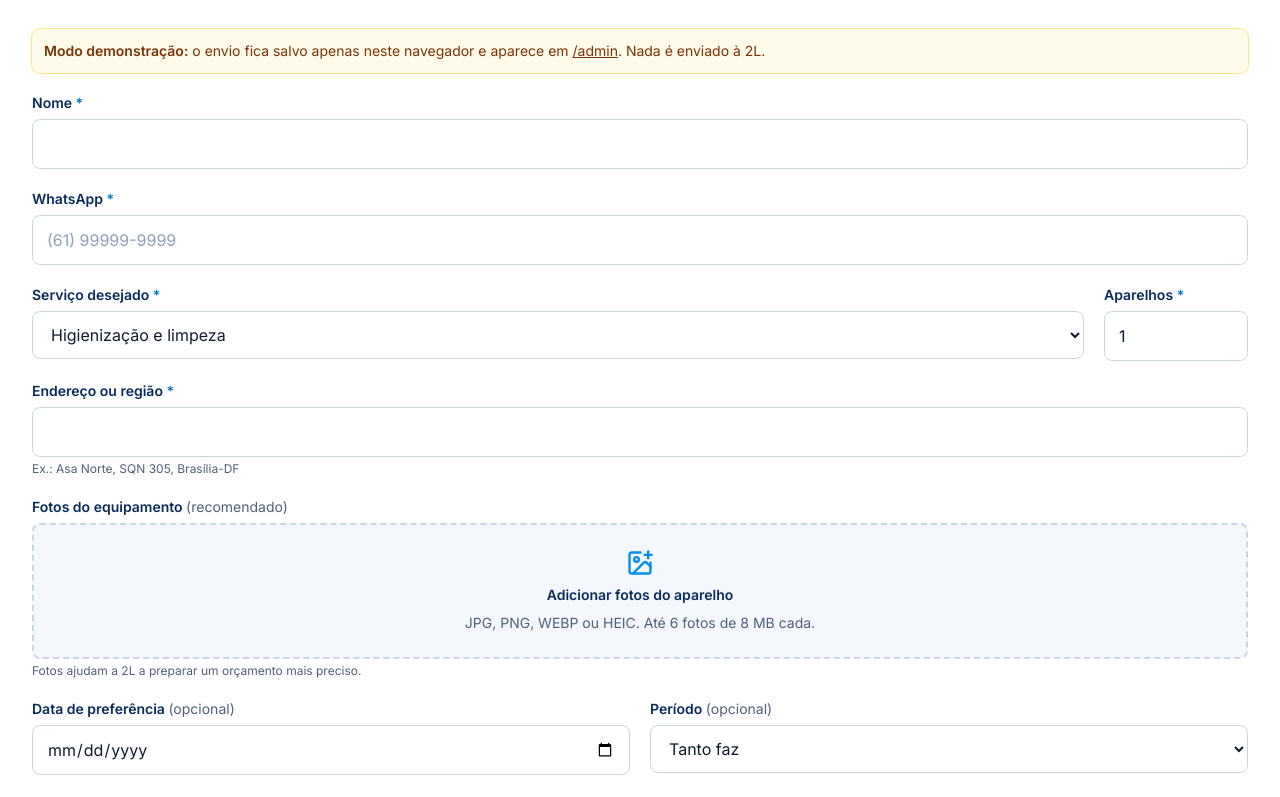
Test: QuoteForm › exibe erro do servidor e permite nova tentativa
Type "Maria Silva" into the field labelled "Nome *" at [640, 144], box [32,119,1248,169]
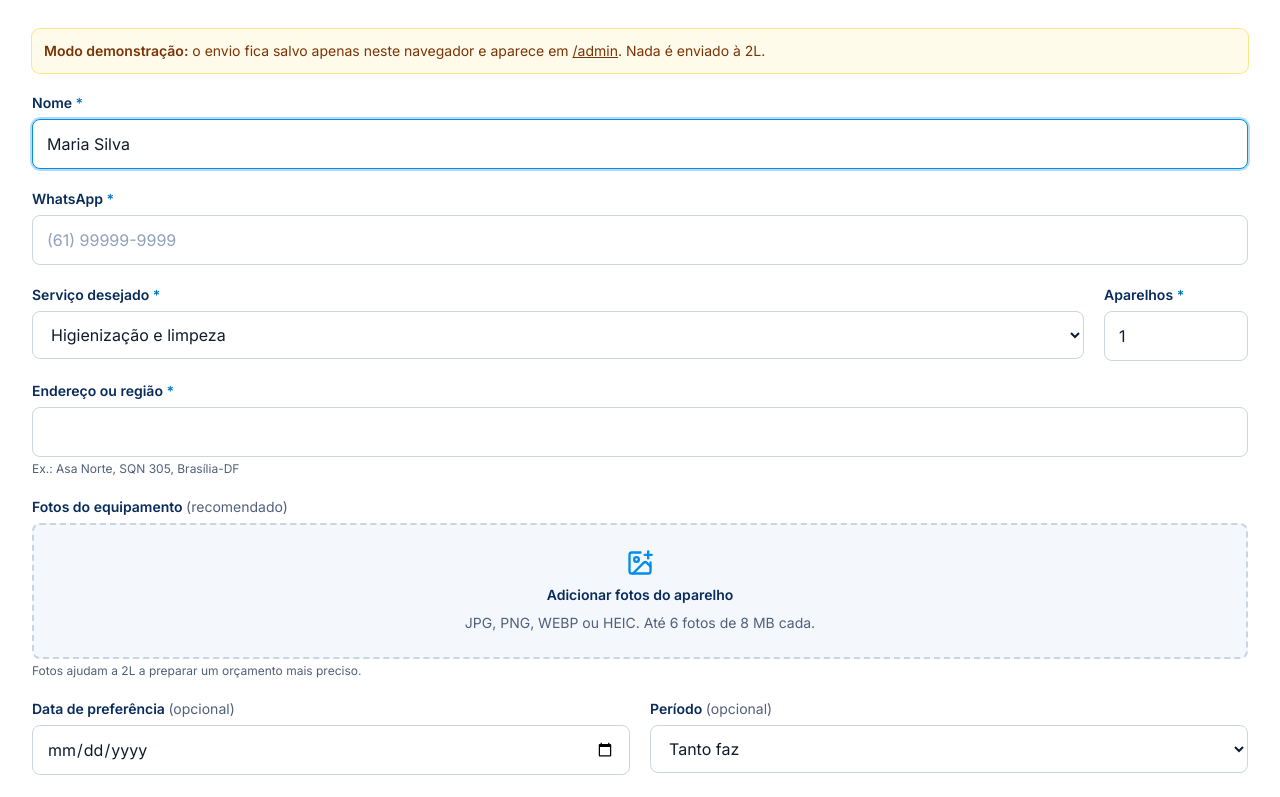
Type "61994415050" into the field labelled "WhatsApp *" at [640, 240], box [32,215,1248,265]
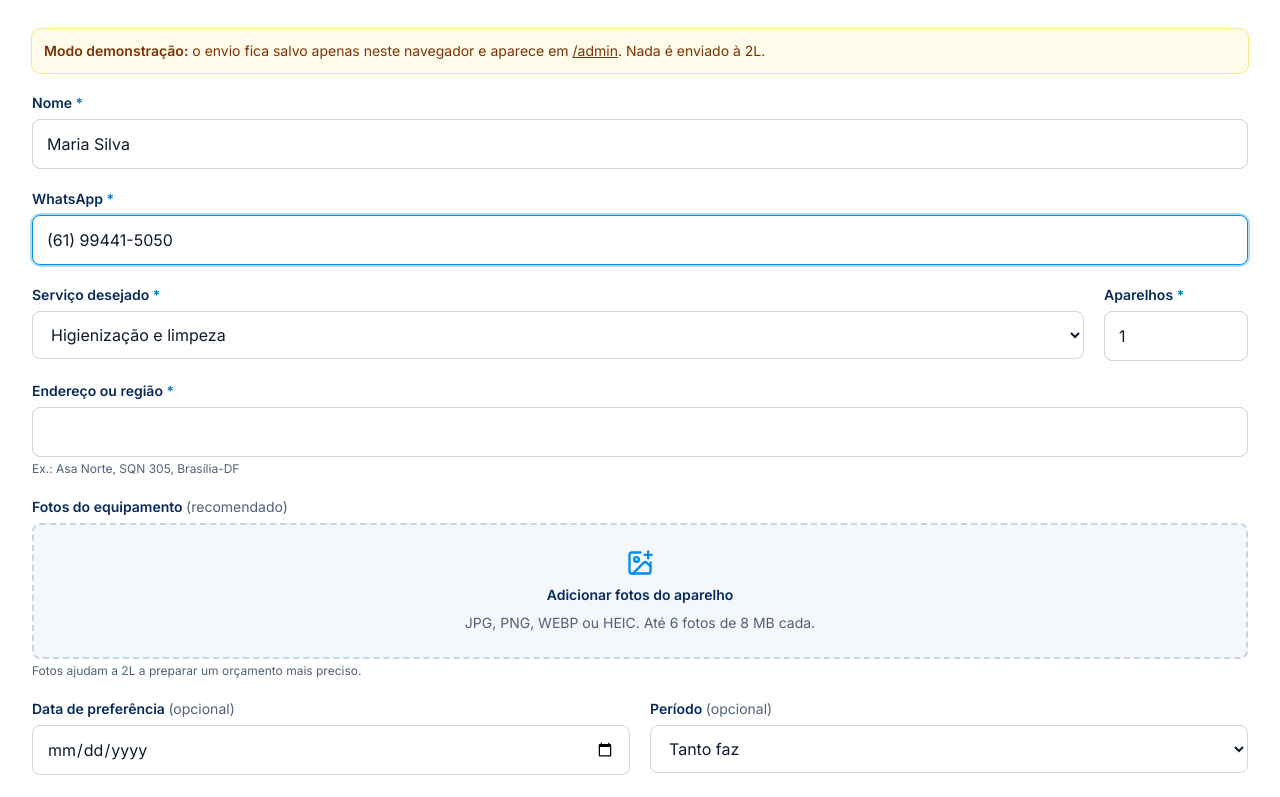
Type "Asa Norte" into the field labelled "Endereço ou região *" at [640, 432], box [32,407,1248,457]
(page scrolled)
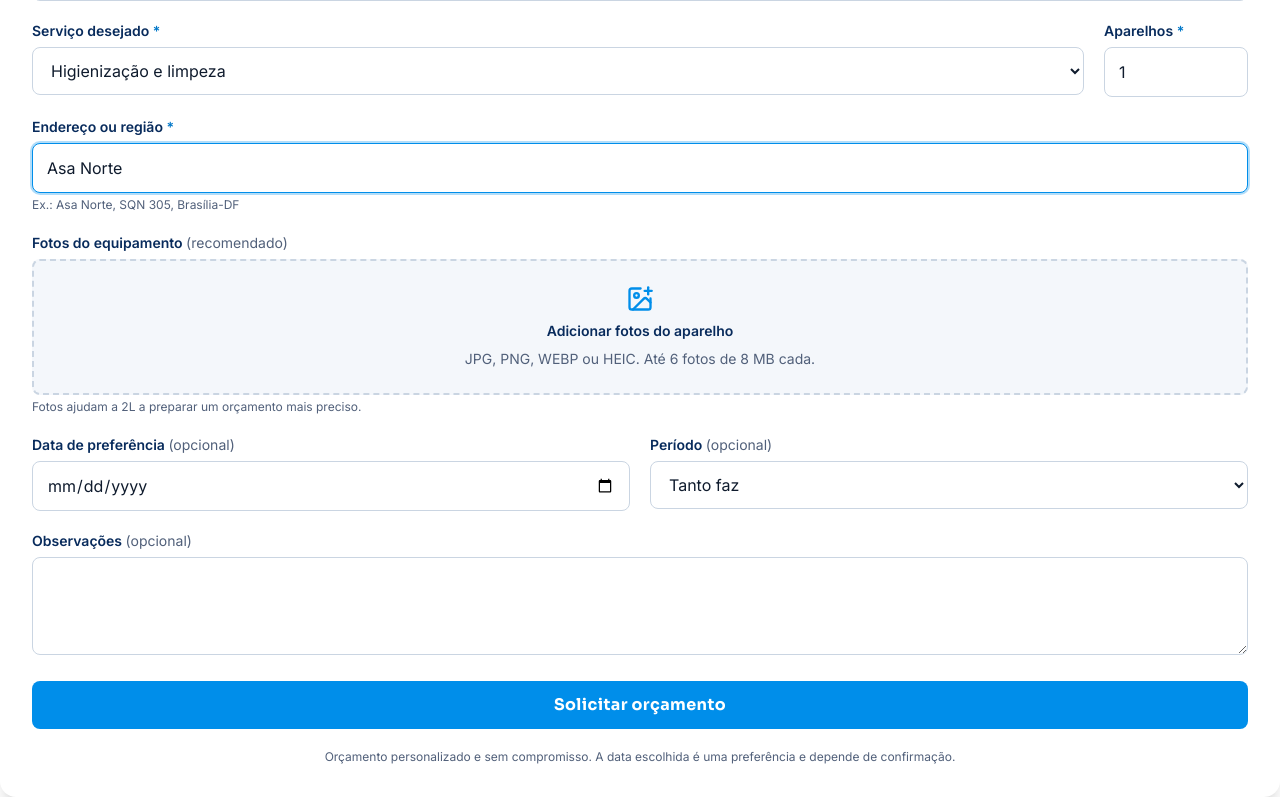
Click the button "Solicitar orçamento" at [640, 705], box [32,681,1248,729]
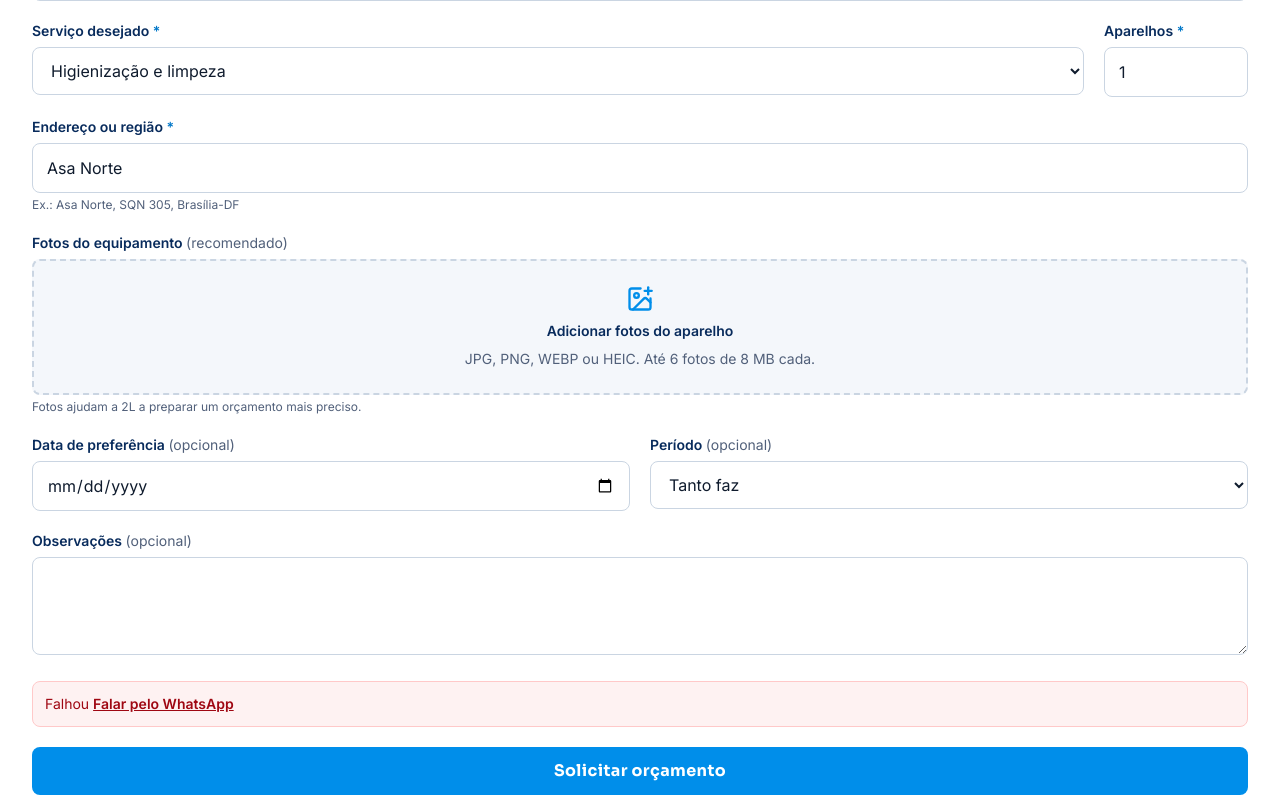
Expected: the button "Solicitar orçamento" is enabled, [32,747,1248,795]
Now the text "Falhou Falar pelo WhatsApp" is shown, box [32,681,1248,727]
